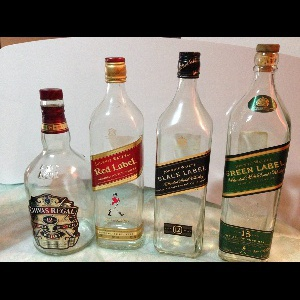emptybottle: (218, 43, 290, 262), (153, 51, 213, 258), (24, 89, 94, 256), (91, 57, 144, 251)
